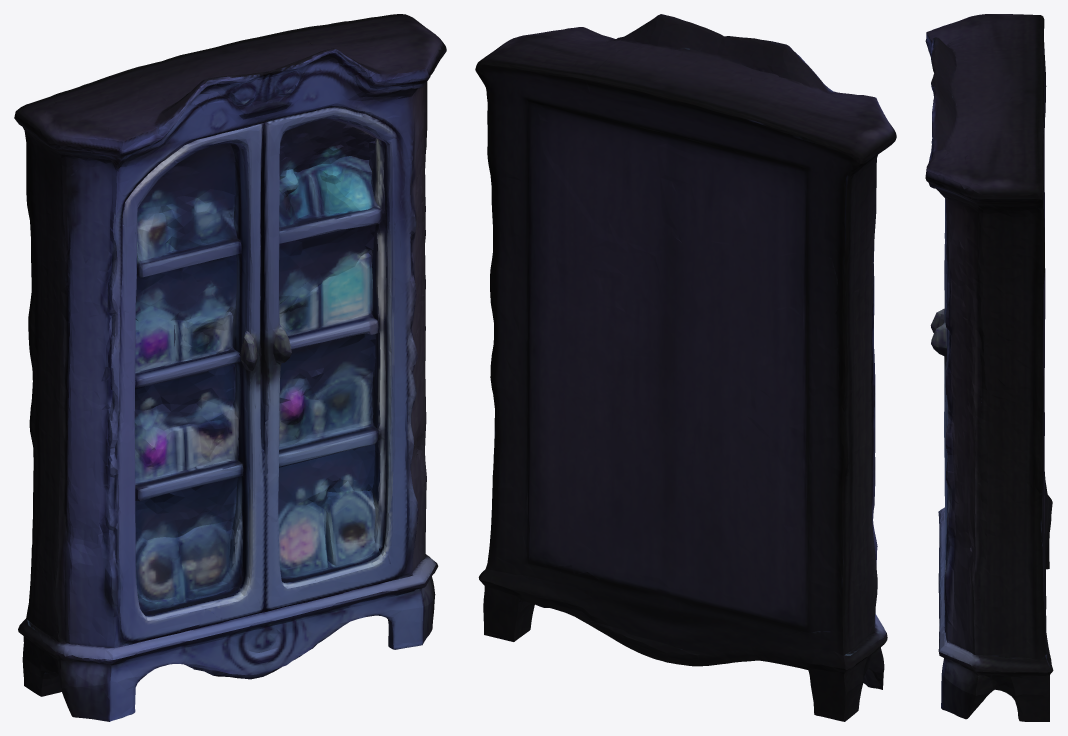
File: Ingredient_Cabinet.glb
3 views of the same model, side by side, from view 1: azimuth 30°, elevation 25°; view 2: azimuth 150°, elevation 25°; view 3: azimuth 270°, elevation 25° (orthographic). The views are drawn at different scales.
Visible parts, largest first — view 1: world; view 2: world; view 3: world.
Part boxes in pixels (<box>): world: <box>14,14,446,721</box>; world: <box>475,14,896,721</box>; world: <box>925,14,1053,721</box>.
Size of the model in its own units: 0.6726 by 1 by 0.2025.
1 material, 1 textured.
